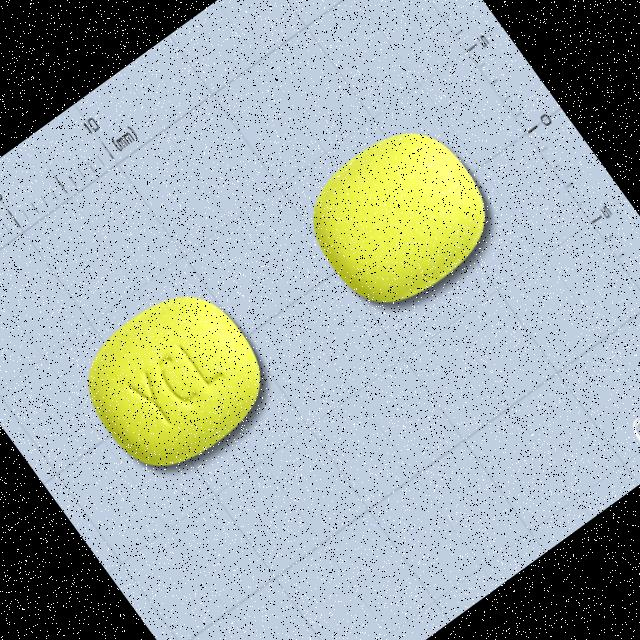Youngpoong Clarithromycin Tab: (285, 104, 511, 326), (62, 270, 286, 492)
